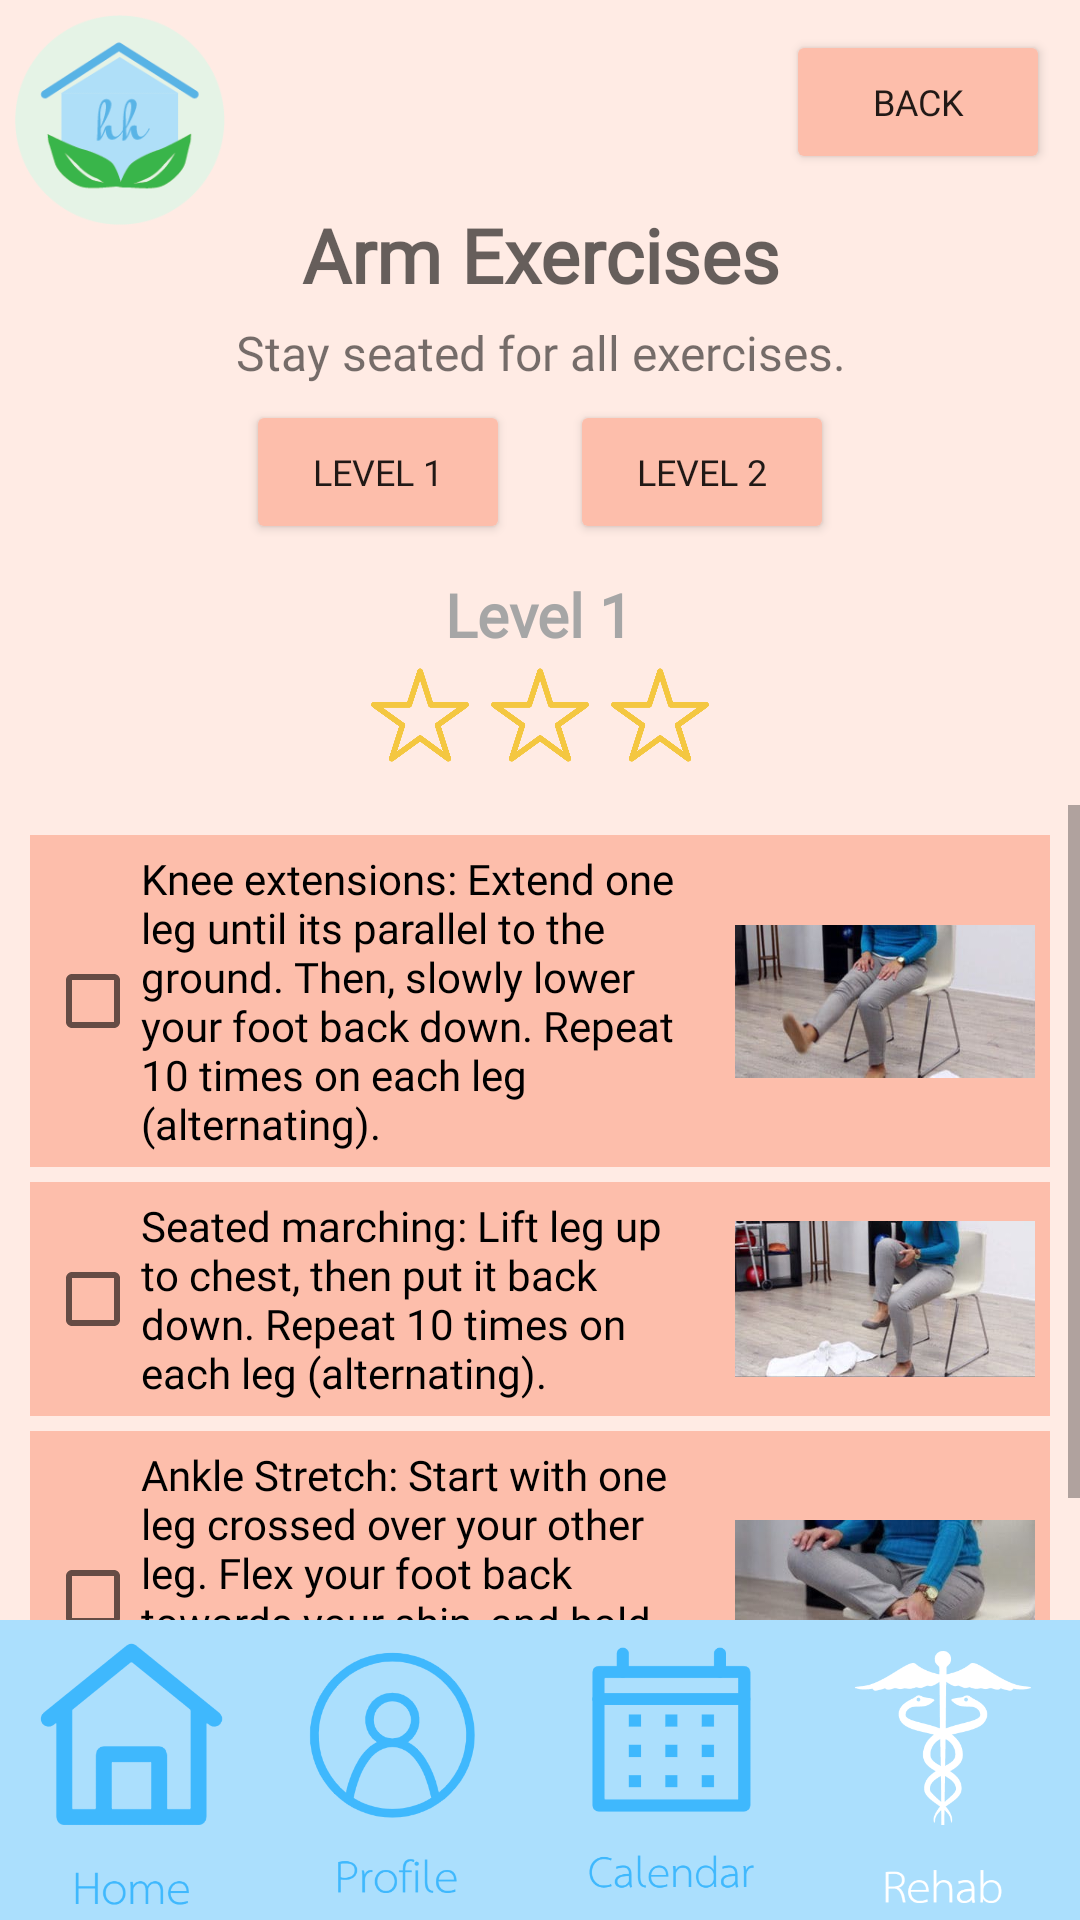

Screen size 1080 × 1920. Icon name, then its box in pixels as (x1, y1, x2, y2):
emptystar: (371, 668, 469, 762), (491, 668, 589, 762), (611, 668, 709, 762)
extention: (735, 925, 1035, 1078)
